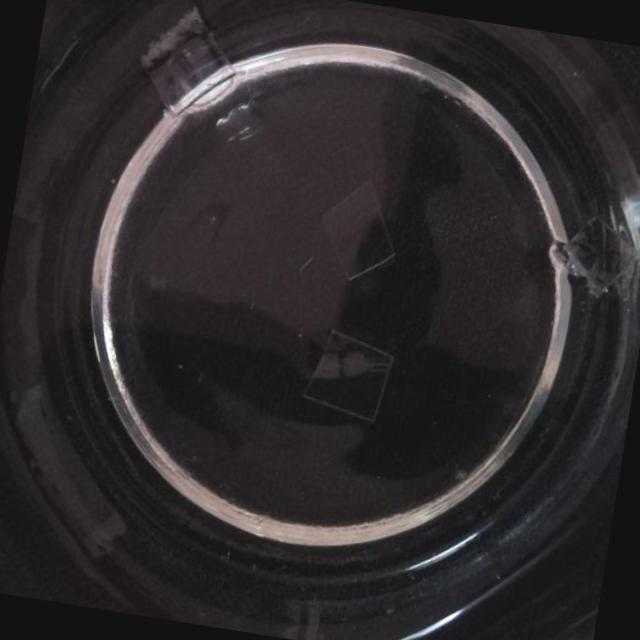fiber: (143, 5, 244, 124), (314, 175, 404, 283), (304, 326, 395, 424), (553, 209, 640, 297), (210, 97, 268, 147), (449, 464, 472, 485)
